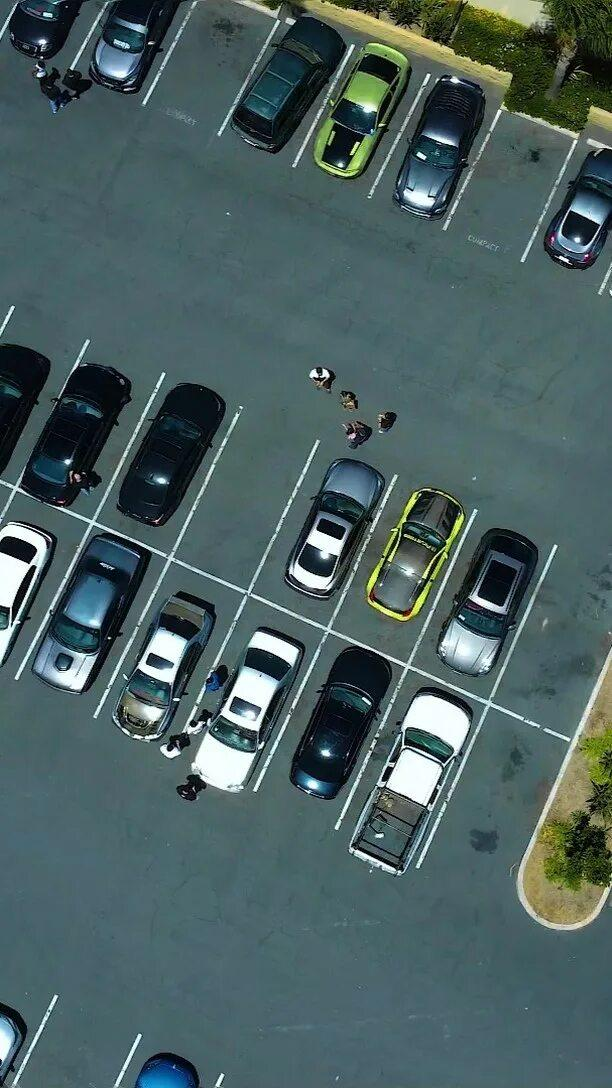occupied: (337, 666, 489, 866), (255, 630, 407, 827), (16, 522, 170, 716), (175, 594, 328, 789), (95, 559, 248, 750), (408, 512, 555, 704), (328, 476, 475, 667), (248, 443, 396, 630), (92, 375, 241, 559), (15, 341, 163, 523), (294, 48, 429, 197), (369, 77, 499, 228), (219, 22, 353, 166)
vacant: (419, 704, 574, 905), (170, 408, 318, 593), (445, 113, 575, 261), (143, 3, 278, 135)
